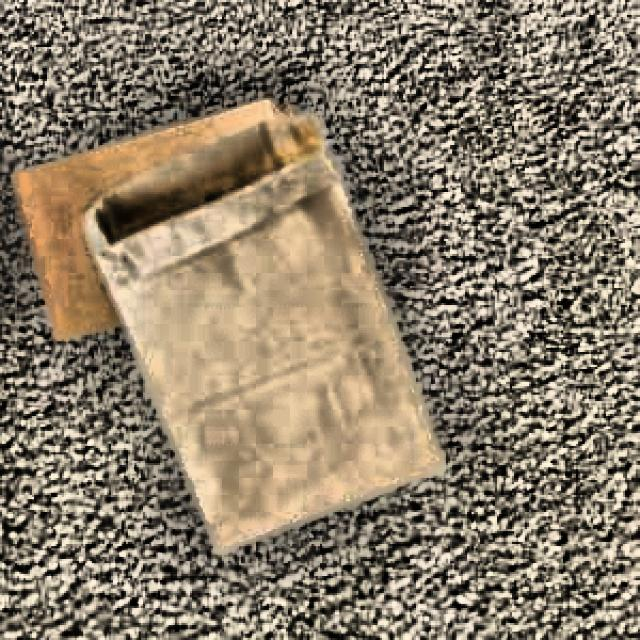Paper-bag: (84, 115, 466, 573), (17, 89, 352, 343)
